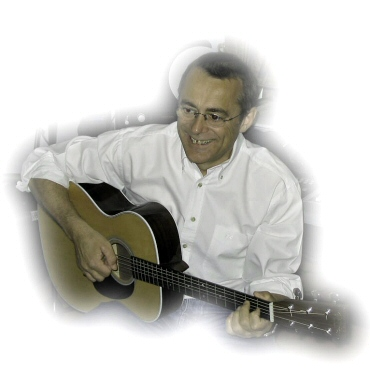guitar: (36, 178, 350, 342)
